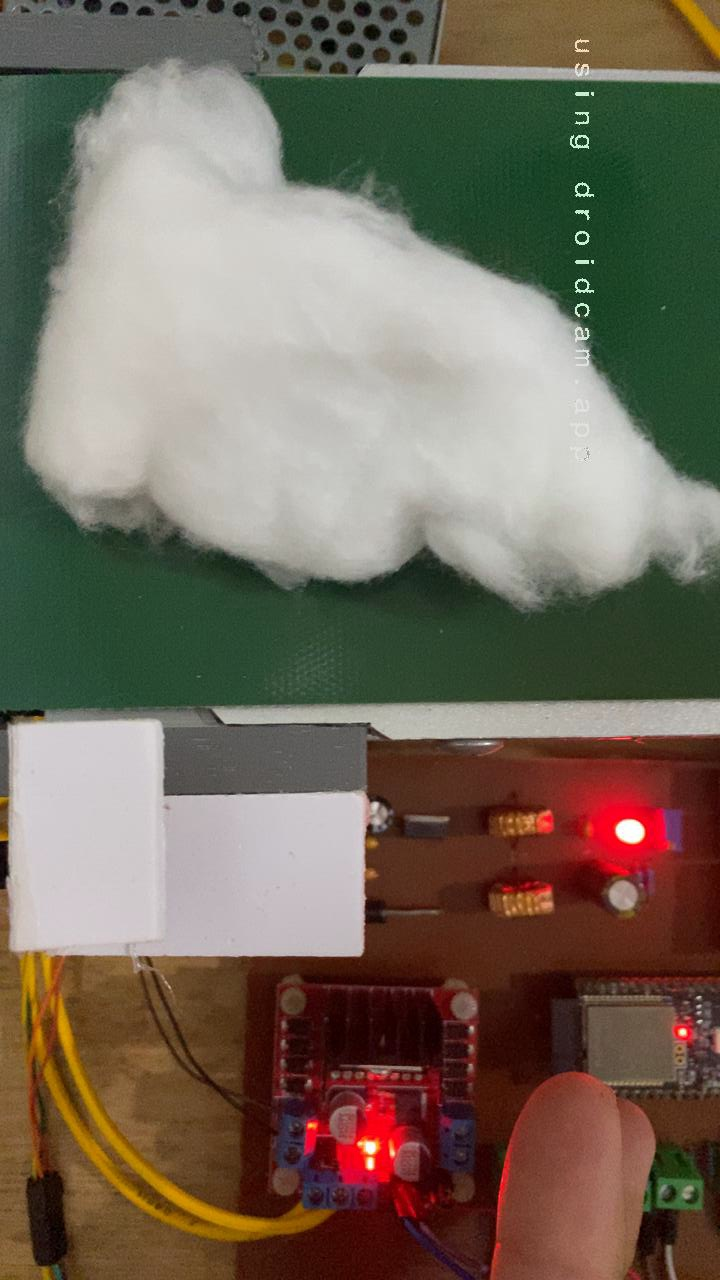cotton: (14, 77, 720, 620)
